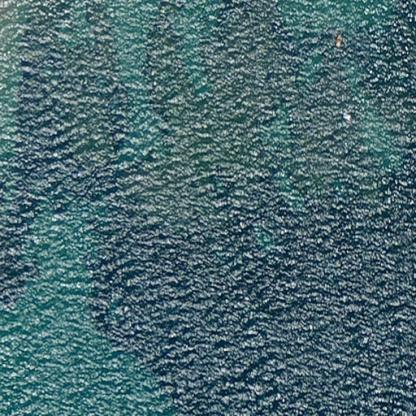ship: (336, 105, 356, 128), (332, 30, 346, 50)
